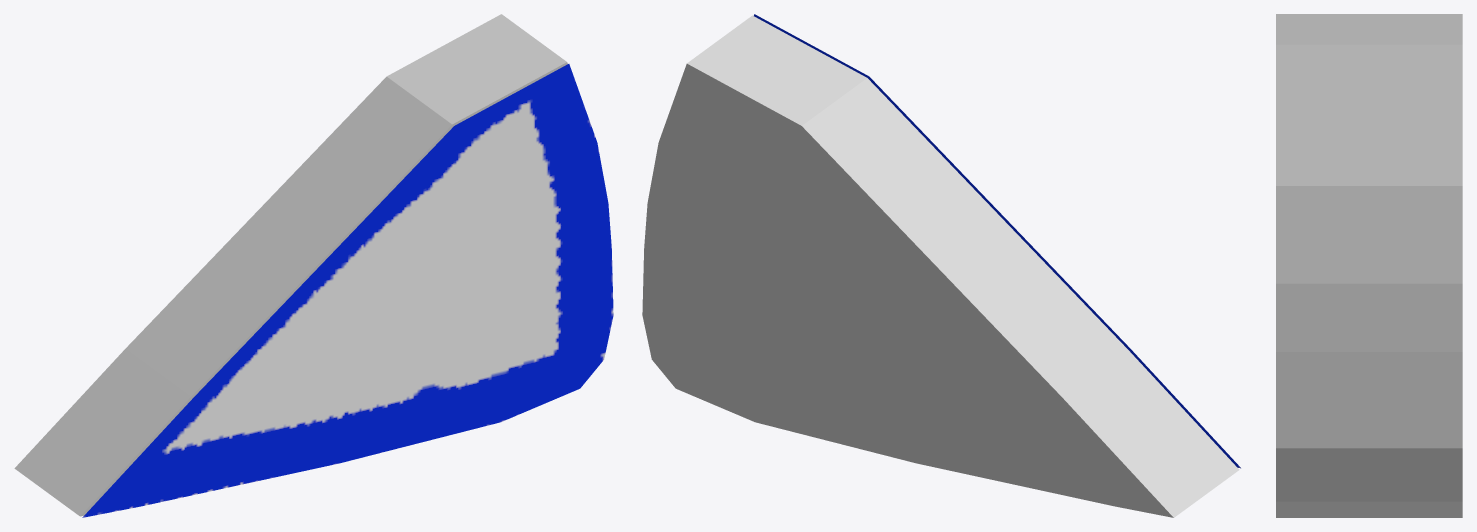
3 views of the same model, side by side, from view 1: azimuth 30°, elevation 25°; view 2: azimuth 150°, elevation 25°; view 3: azimuth 270°, elevation 25° (orthographic). The views are drawn at different scales.
Visible parts, largest first — view 1: In7_1, In7_0; view 2: In7_0, In7_1; view 3: In7_0.
Part boxes in pixels (x1,y1,x2,y2): In7_1: (82, 64, 613, 517); In7_0: (14, 14, 567, 516); In7_0: (642, 15, 1239, 517); In7_1: (754, 14, 1240, 468); In7_0: (1276, 14, 1462, 517).
Bounding box in the file's own units: 2.34 × 1.44 × 0.515.
2 materials, 1 textured.
